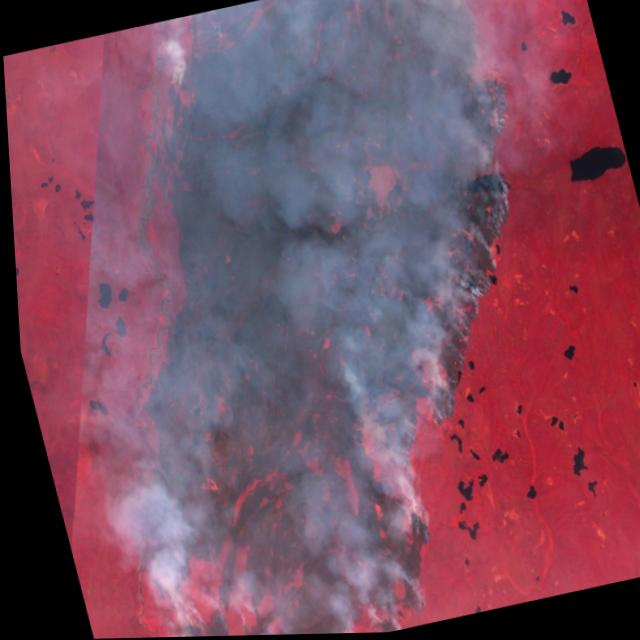fire: (1, 0, 630, 640)
